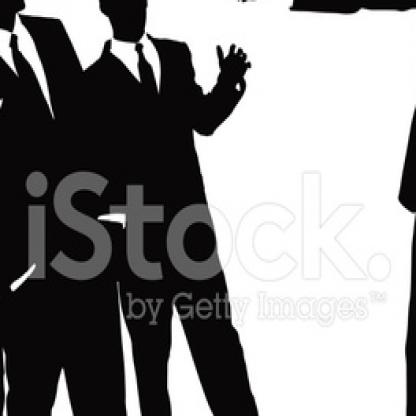gun: (162, 0, 284, 27)
